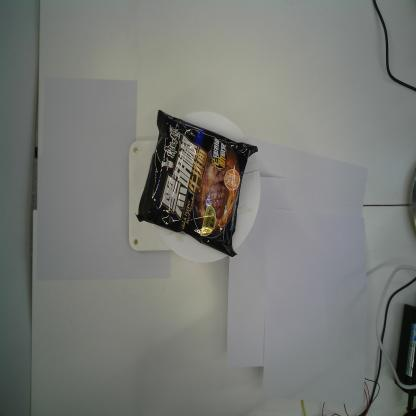Instant Noodles: (134, 108, 258, 258)
